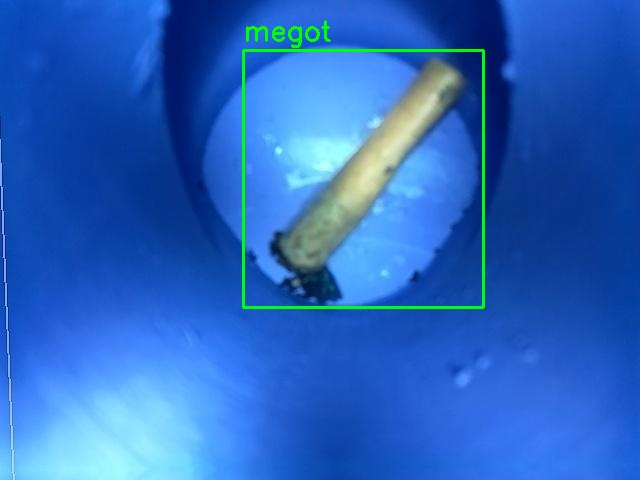megot: (243, 50, 483, 307)
